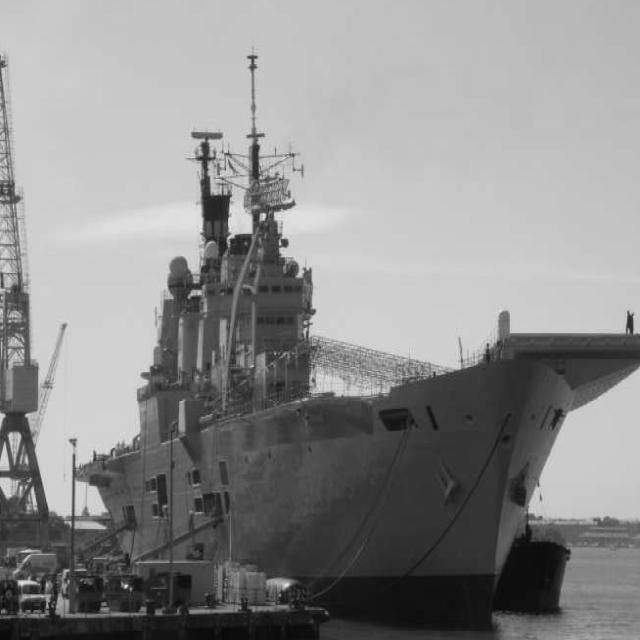Portanaves: (68, 40, 640, 638)
